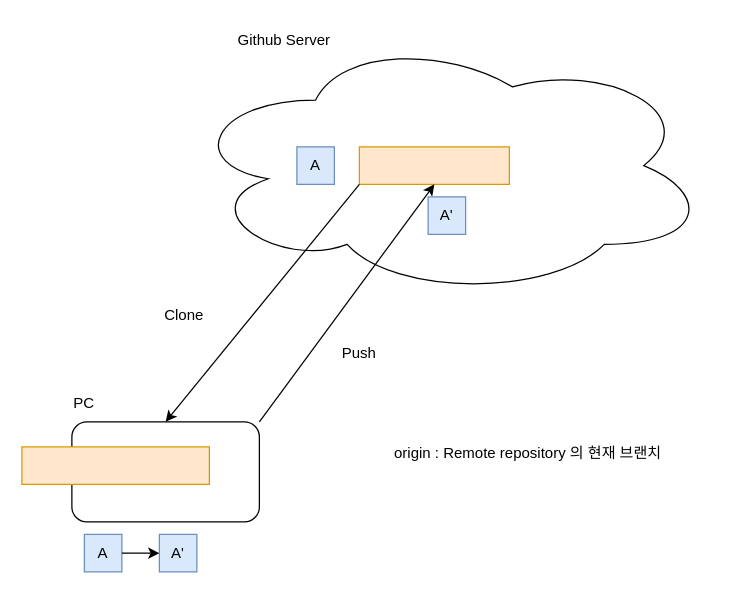
Some shapes in this 731 by 594 pixel diagram are drawn without their labels. Each missing label, with the centre of its shape:
"Local repository" belongs at point (115, 465).
"Remote repository" belongs at point (433, 165).
